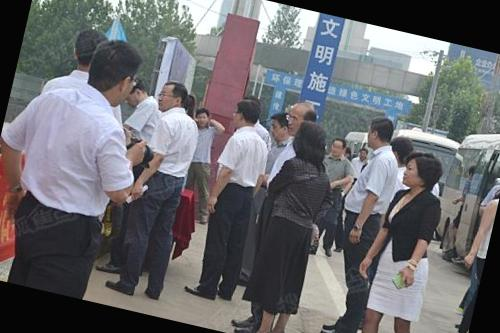no_helmet: (79, 32, 152, 106), (395, 146, 446, 197), (290, 118, 335, 166), (72, 22, 108, 74), (362, 110, 398, 153), (284, 98, 322, 138), (230, 92, 266, 131), (386, 130, 421, 168), (154, 76, 188, 114), (265, 109, 292, 144), (193, 101, 214, 128), (326, 134, 348, 158)
